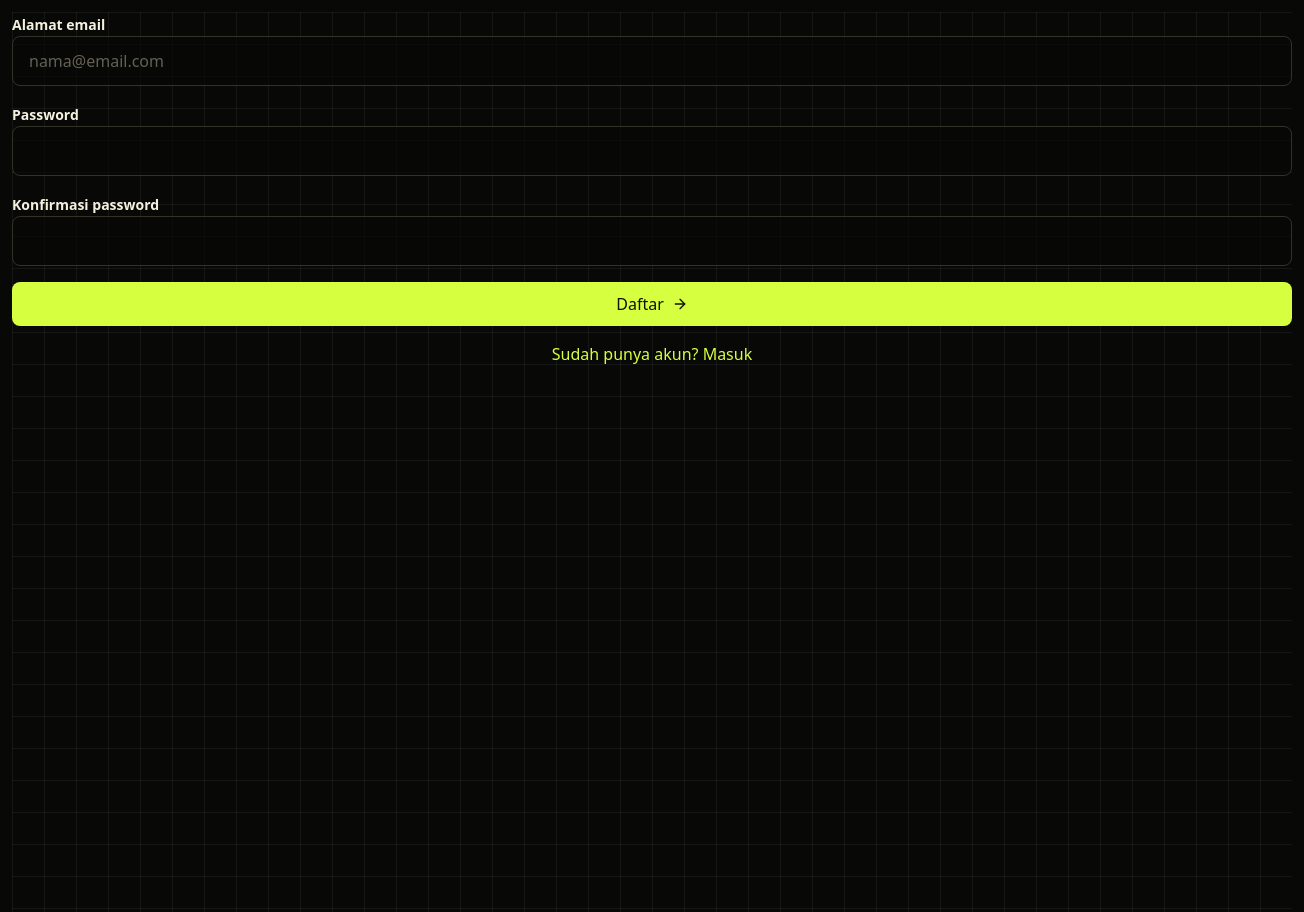
Scenario: rejects invalid email and mismatched passwords
The width and height of the screenshot is (1304, 912).
Type "nama@domain" into the field labelled "Alamat email" at (652, 61), box [12, 36, 1292, 86]
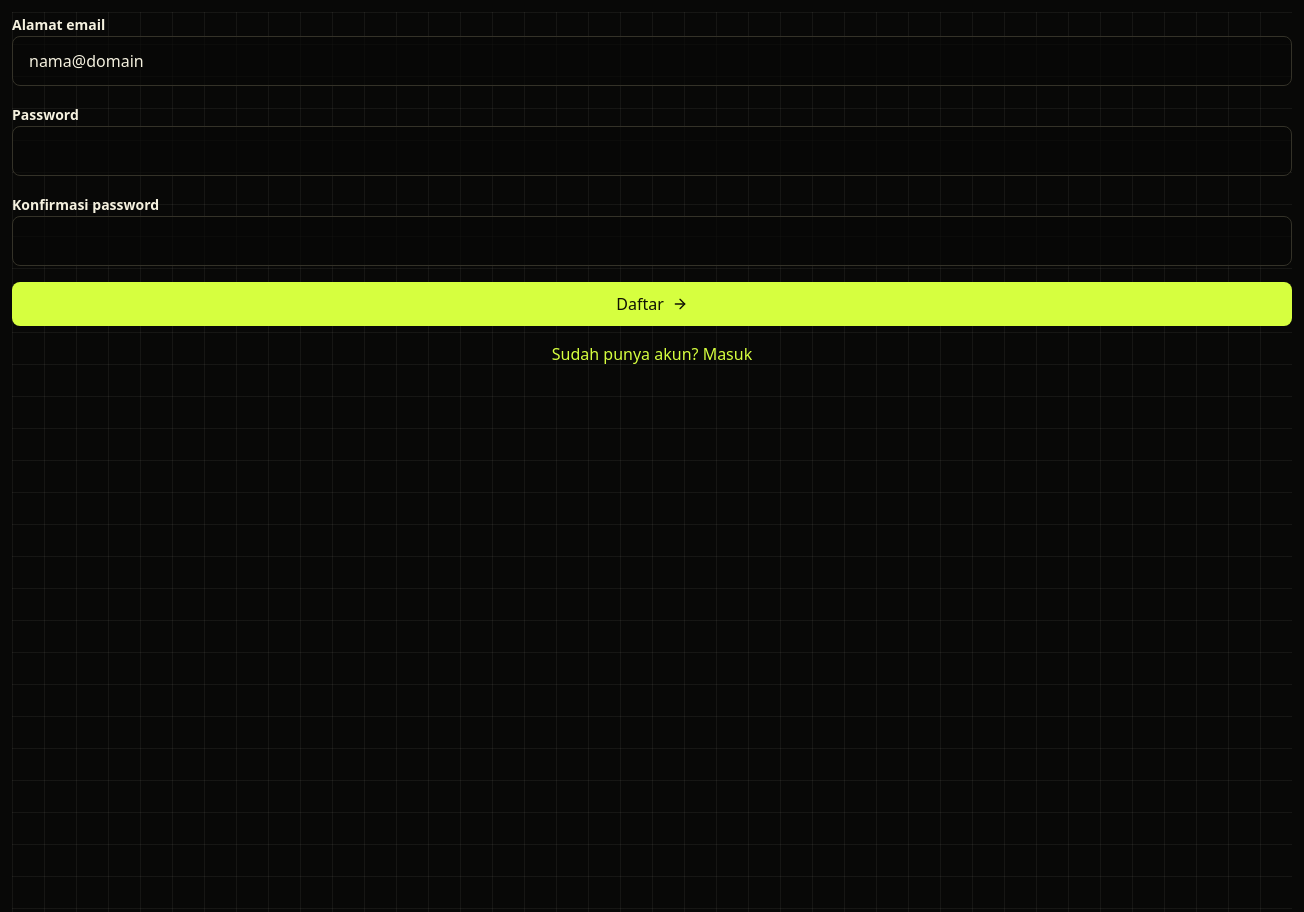
Type "password-123" into the password field labelled "Password" at (652, 151), box [12, 126, 1292, 176]
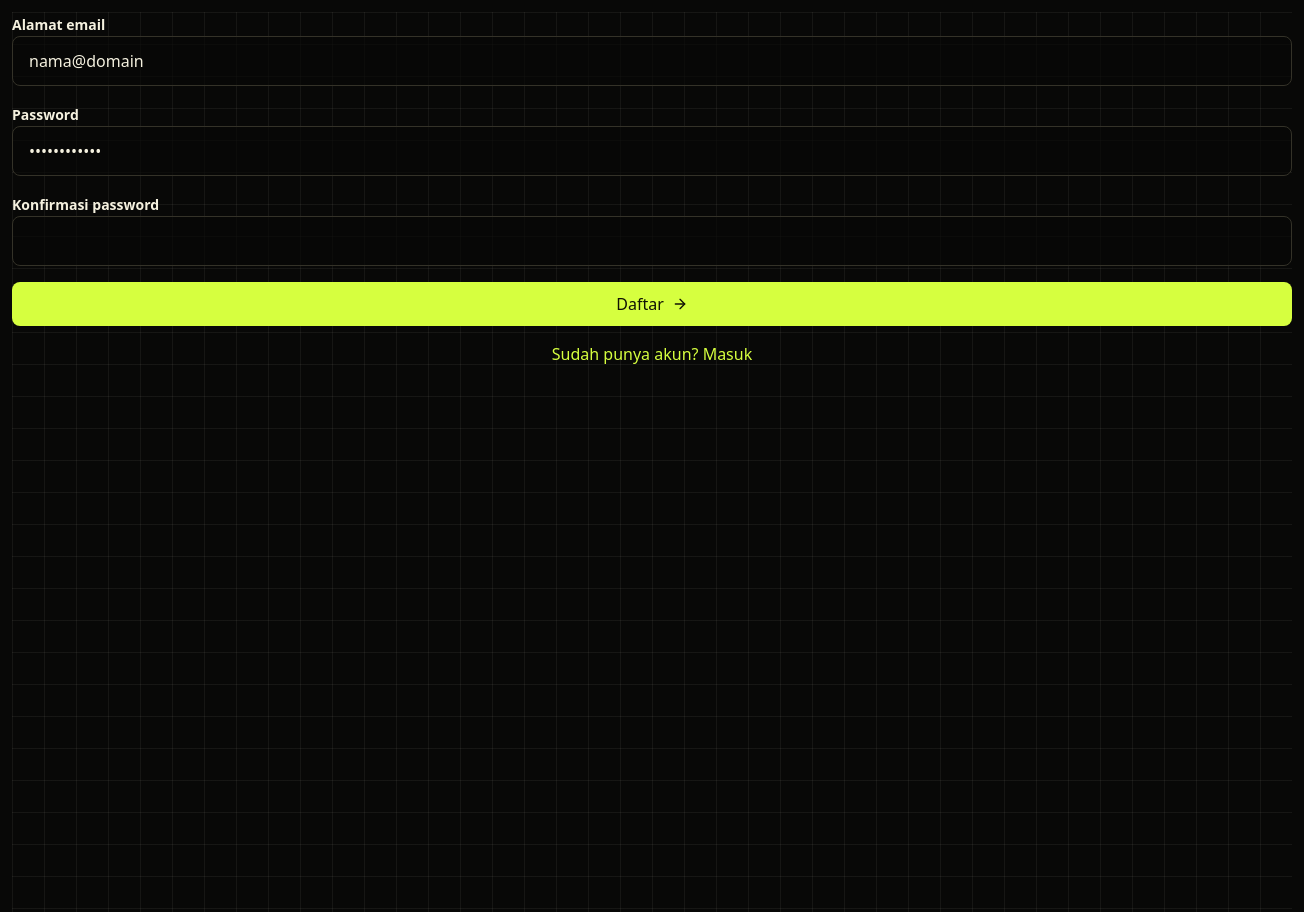
Type "password-456" into the password field labelled "Konfirmasi password" at (652, 241), box [12, 216, 1292, 266]
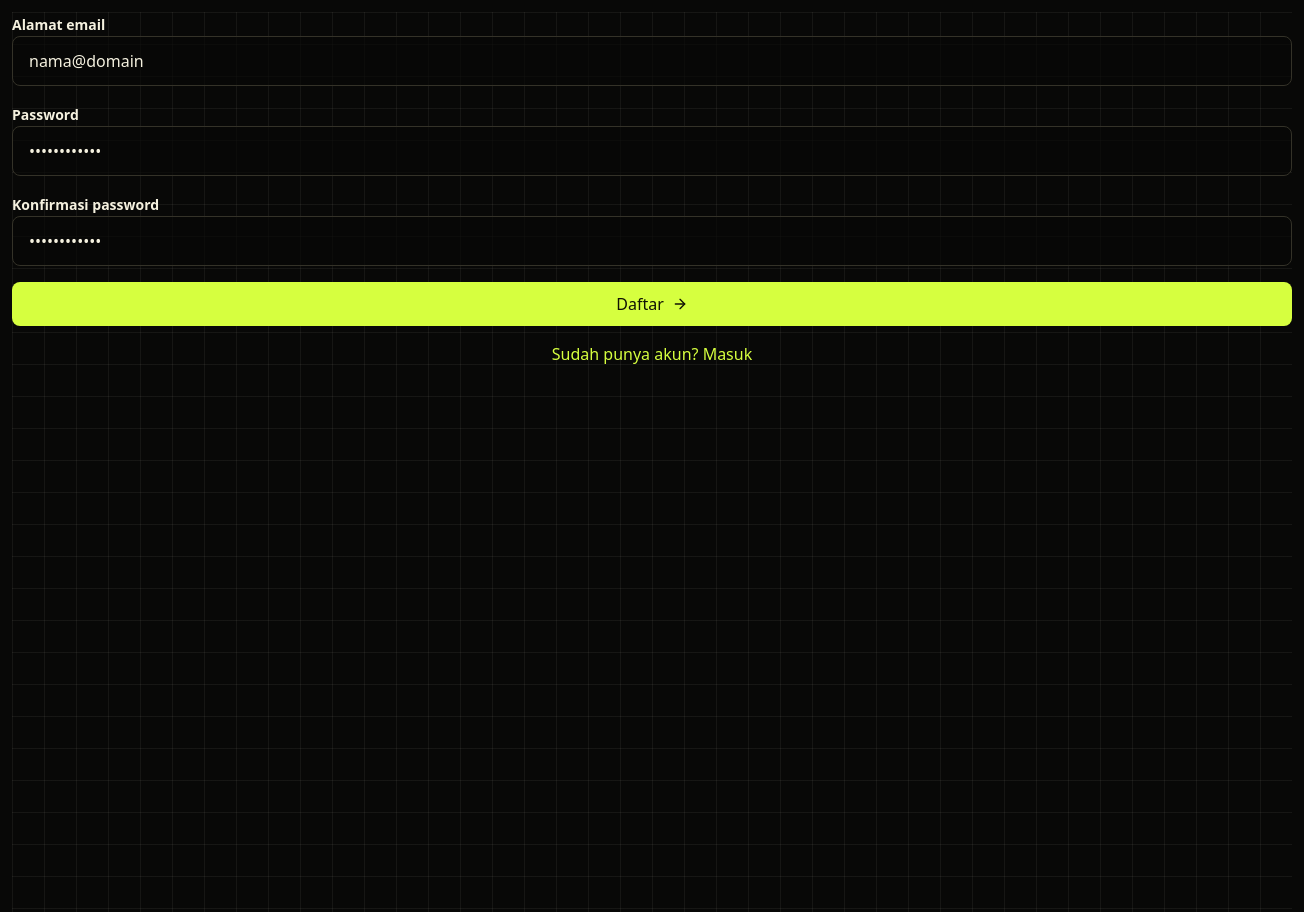
Click the button "Daftar" at (652, 304), box [12, 282, 1292, 326]
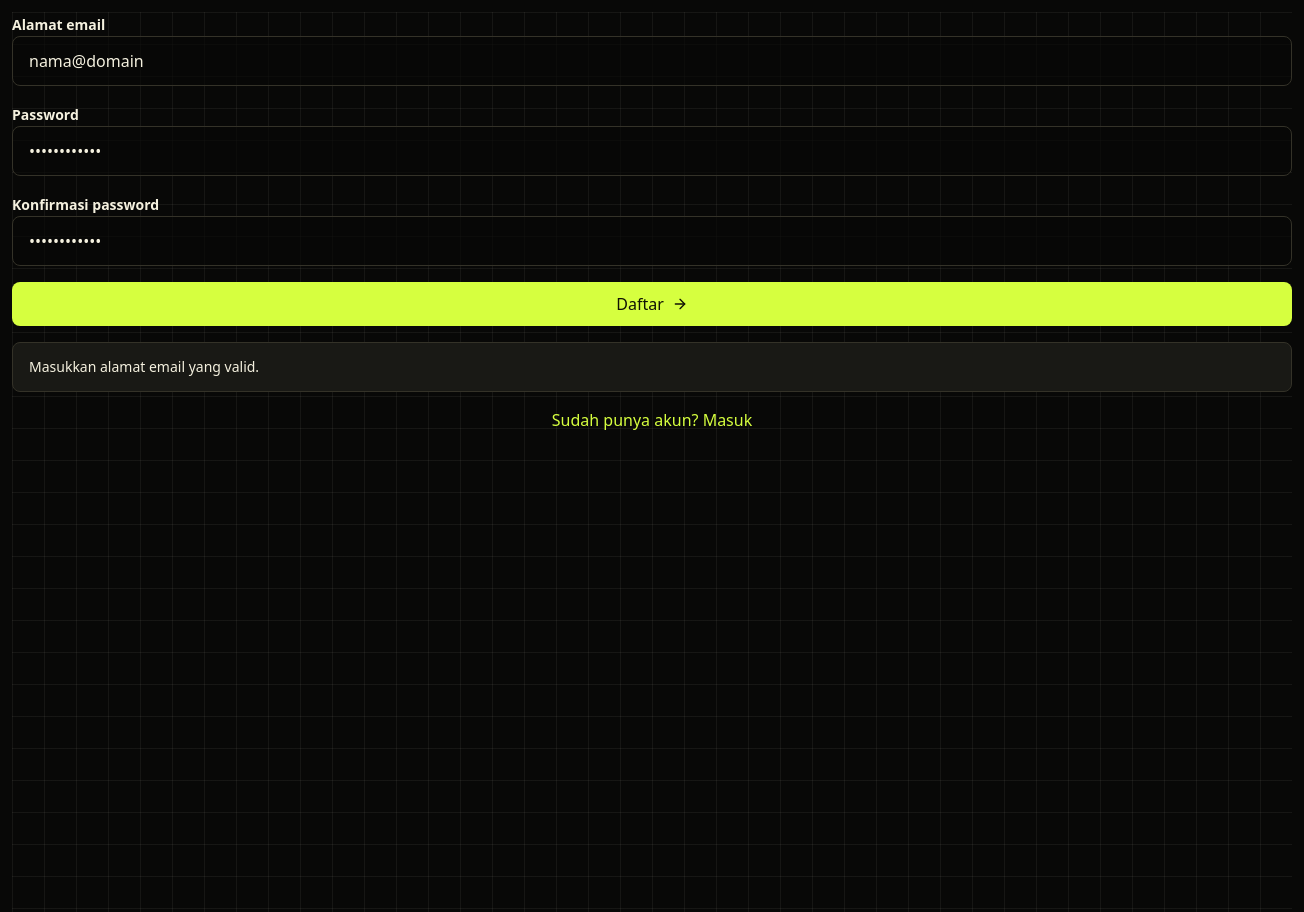
Expected: the message reads "Masukkan alamat email yang valid.", [29, 357, 259, 376]
